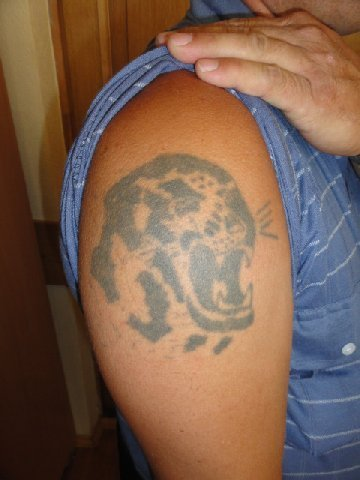tatu5_tigr: (87, 151, 283, 354)
